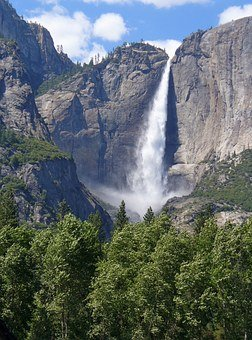forest: (6, 215, 247, 340)
mountain: (12, 51, 249, 336)
waterfall: (85, 43, 212, 226)
